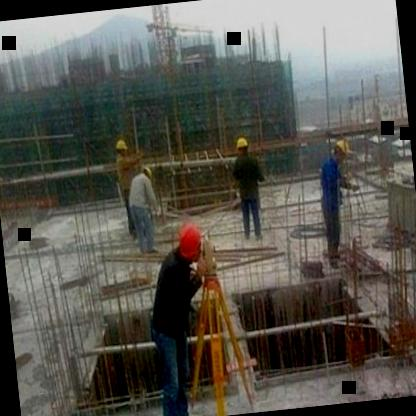helmet: (176, 218, 206, 260), (331, 134, 353, 164), (113, 134, 128, 156), (233, 135, 249, 154), (140, 160, 152, 179)
